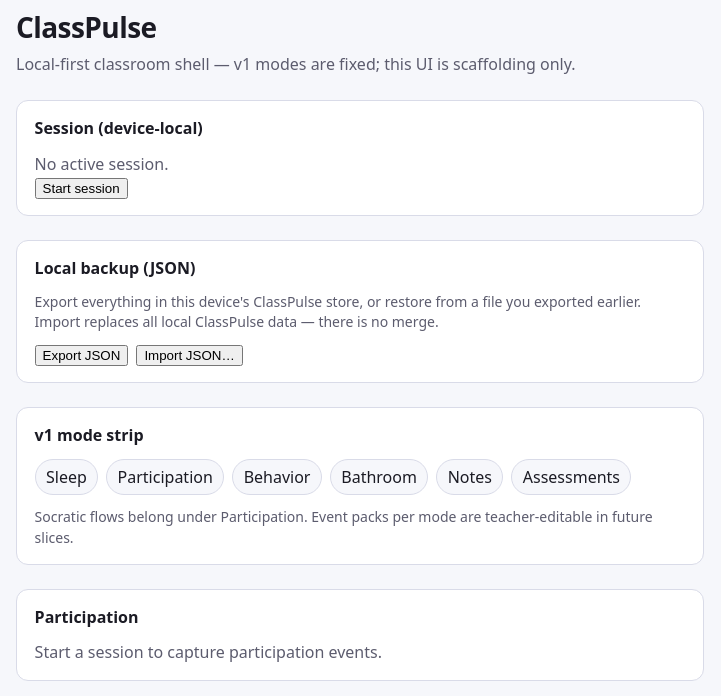
Test: Session lifecycle (shell) › ending the active session transitions back to the empty state
Start a session and wait for it to become active.
Click the button "Start session" at (81, 188), box [35, 178, 128, 199]
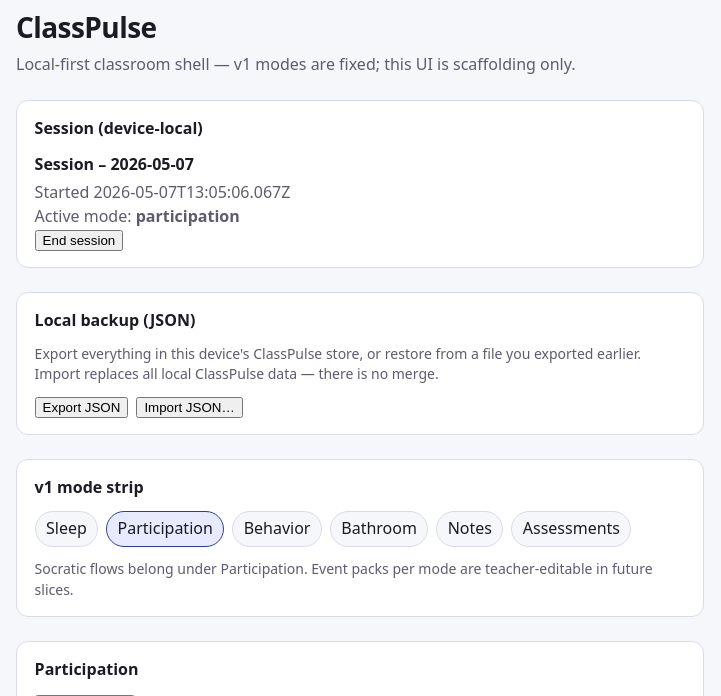
Click the button "End session" at (79, 240), box [35, 230, 123, 251]
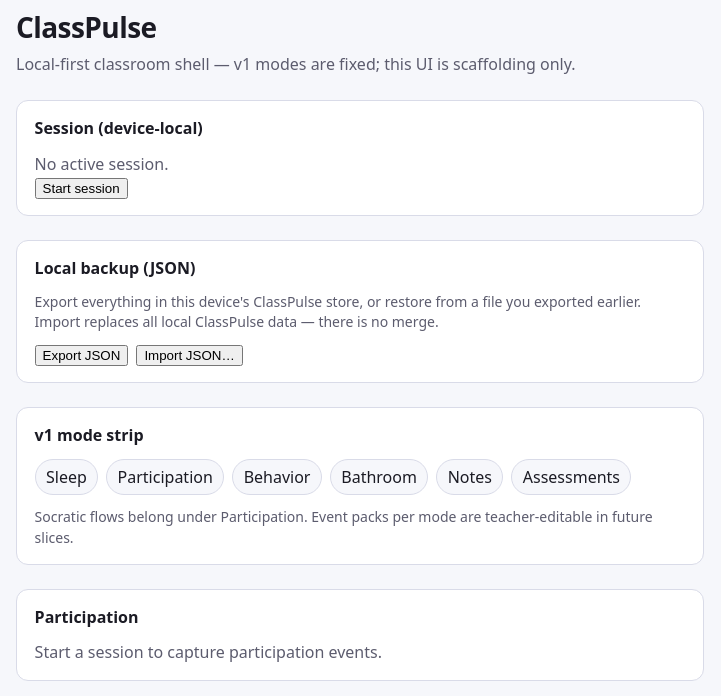
Now the button "Start session" is shown, box [35, 178, 128, 199]
Now the text "No active session." is shown, box [35, 153, 168, 175]
Now the button "participation" is disabled, box [106, 459, 224, 495]
